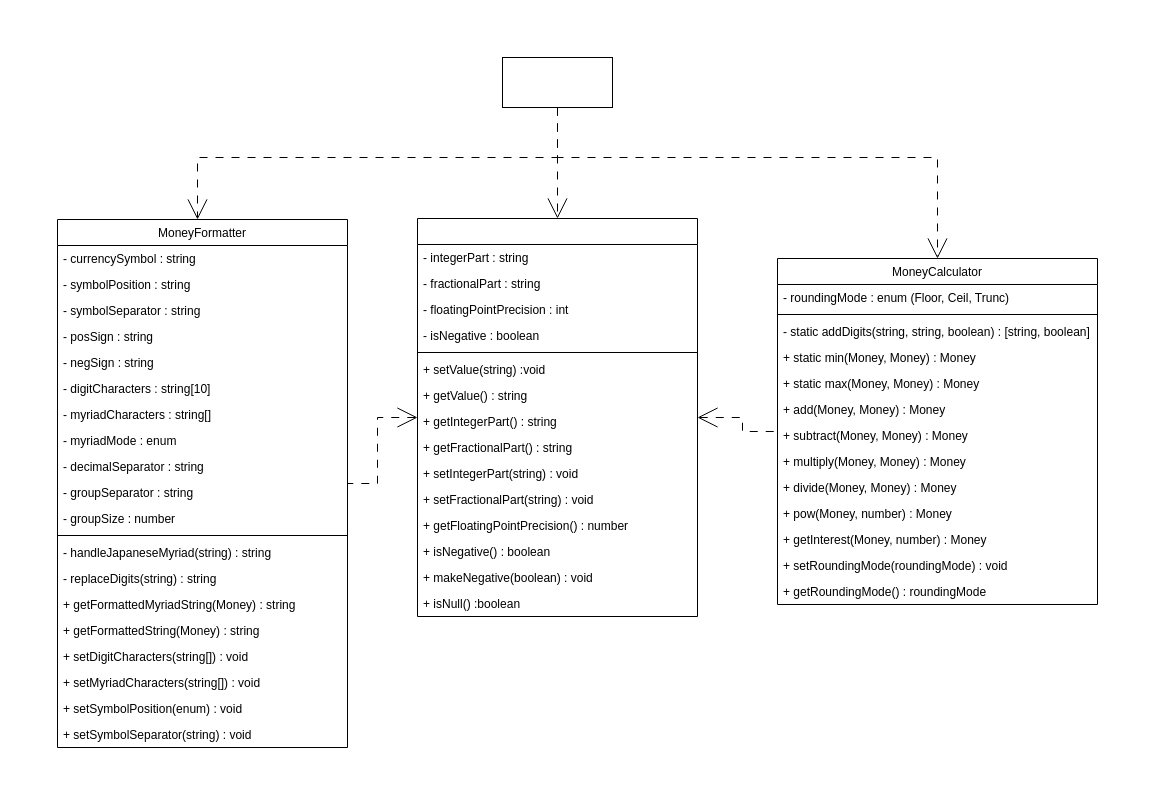
The diagram is 1154 pixels wide and 804 high, and some of its shapes have lost their labels. Each missing label, with the box of its shape:
Client: (502, 56, 612, 108)
Money: (416, 218, 698, 616)
